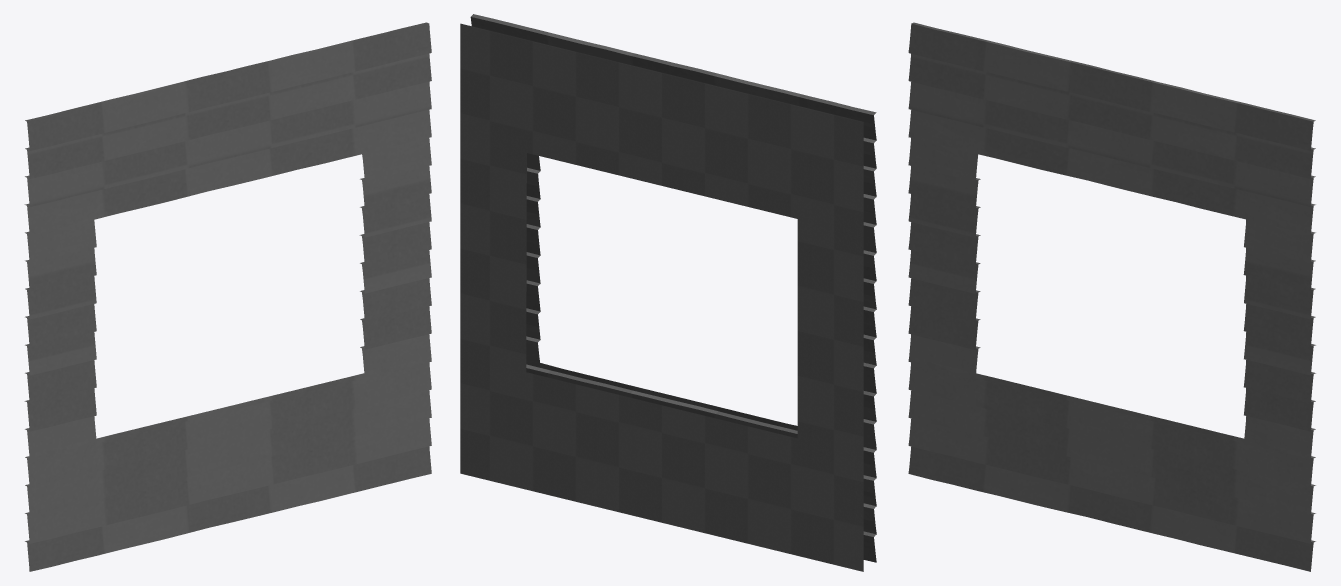
File: SM_House_ExtWall_Window_A.glb
3 views of the same model, side by side, from view 1: azimuth 30°, elevation 25°; view 2: azimuth 150°, elevation 25°; view 3: azimuth 330°, elevation 25° (orthographic).
Visible parts, largest first — view 1: SM_House_ExtWall_Window_A; view 2: SM_House_ExtWall_Window_A; view 3: SM_House_ExtWall_Window_A.
Boxes of the visible parts, <box> form: SM_House_ExtWall_Window_A: <box>24,22,431,571</box>; SM_House_ExtWall_Window_A: <box>460,14,876,571</box>; SM_House_ExtWall_Window_A: <box>908,22,1315,571</box>.
Size of the model in its own units: 300 by 321 by 20.36.
Materials: 1 (1 with a texture image).
